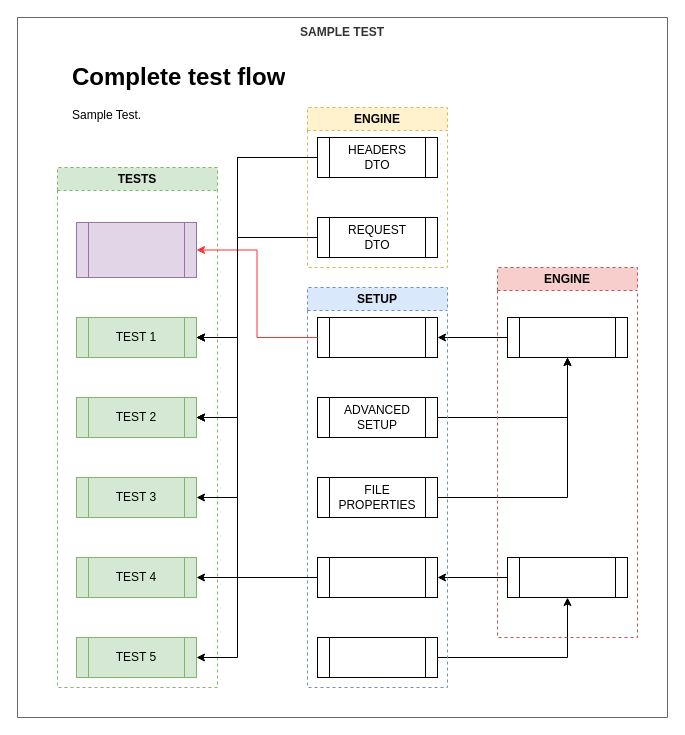
Some shapes in this 685 by 735 pixel diagram are drawn without their labels. Each missing label, with the centre of its shape:
BRIDGE: [377,337]
BRIDGE CONSTRUCTOR ("sample/"): [136,250]
CORE: [567,337]
DATASOURCE: [377,577]
SECURITY CORE: [567,577]
SECURITY SOURCE: [377,657]
